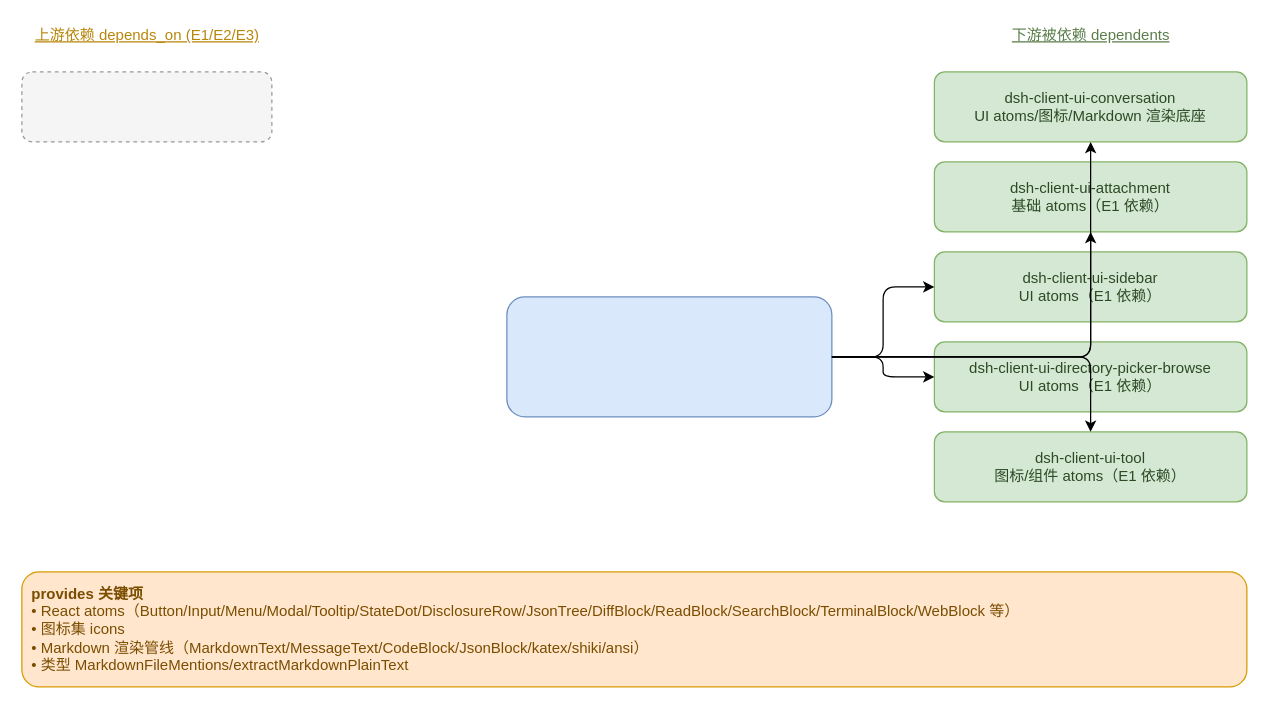
Image size: 1269x709. Some labels were removed from this diagram. The box of each missing label's shape, as (x1, y1, x2, y2) in pixels:
dsh-client-ui-primitives @deepseek-ai/dsh-client-ui-primitives: (506, 296, 832, 417)
（无运行时上游 — 纯 React atoms 底座，零 cordis）: (21, 71, 272, 142)
